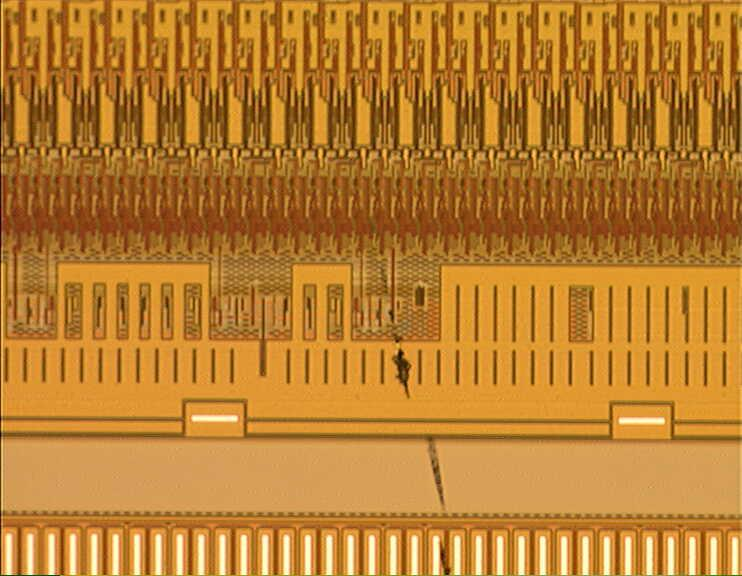SCRATCH: (355, 203, 456, 576)
